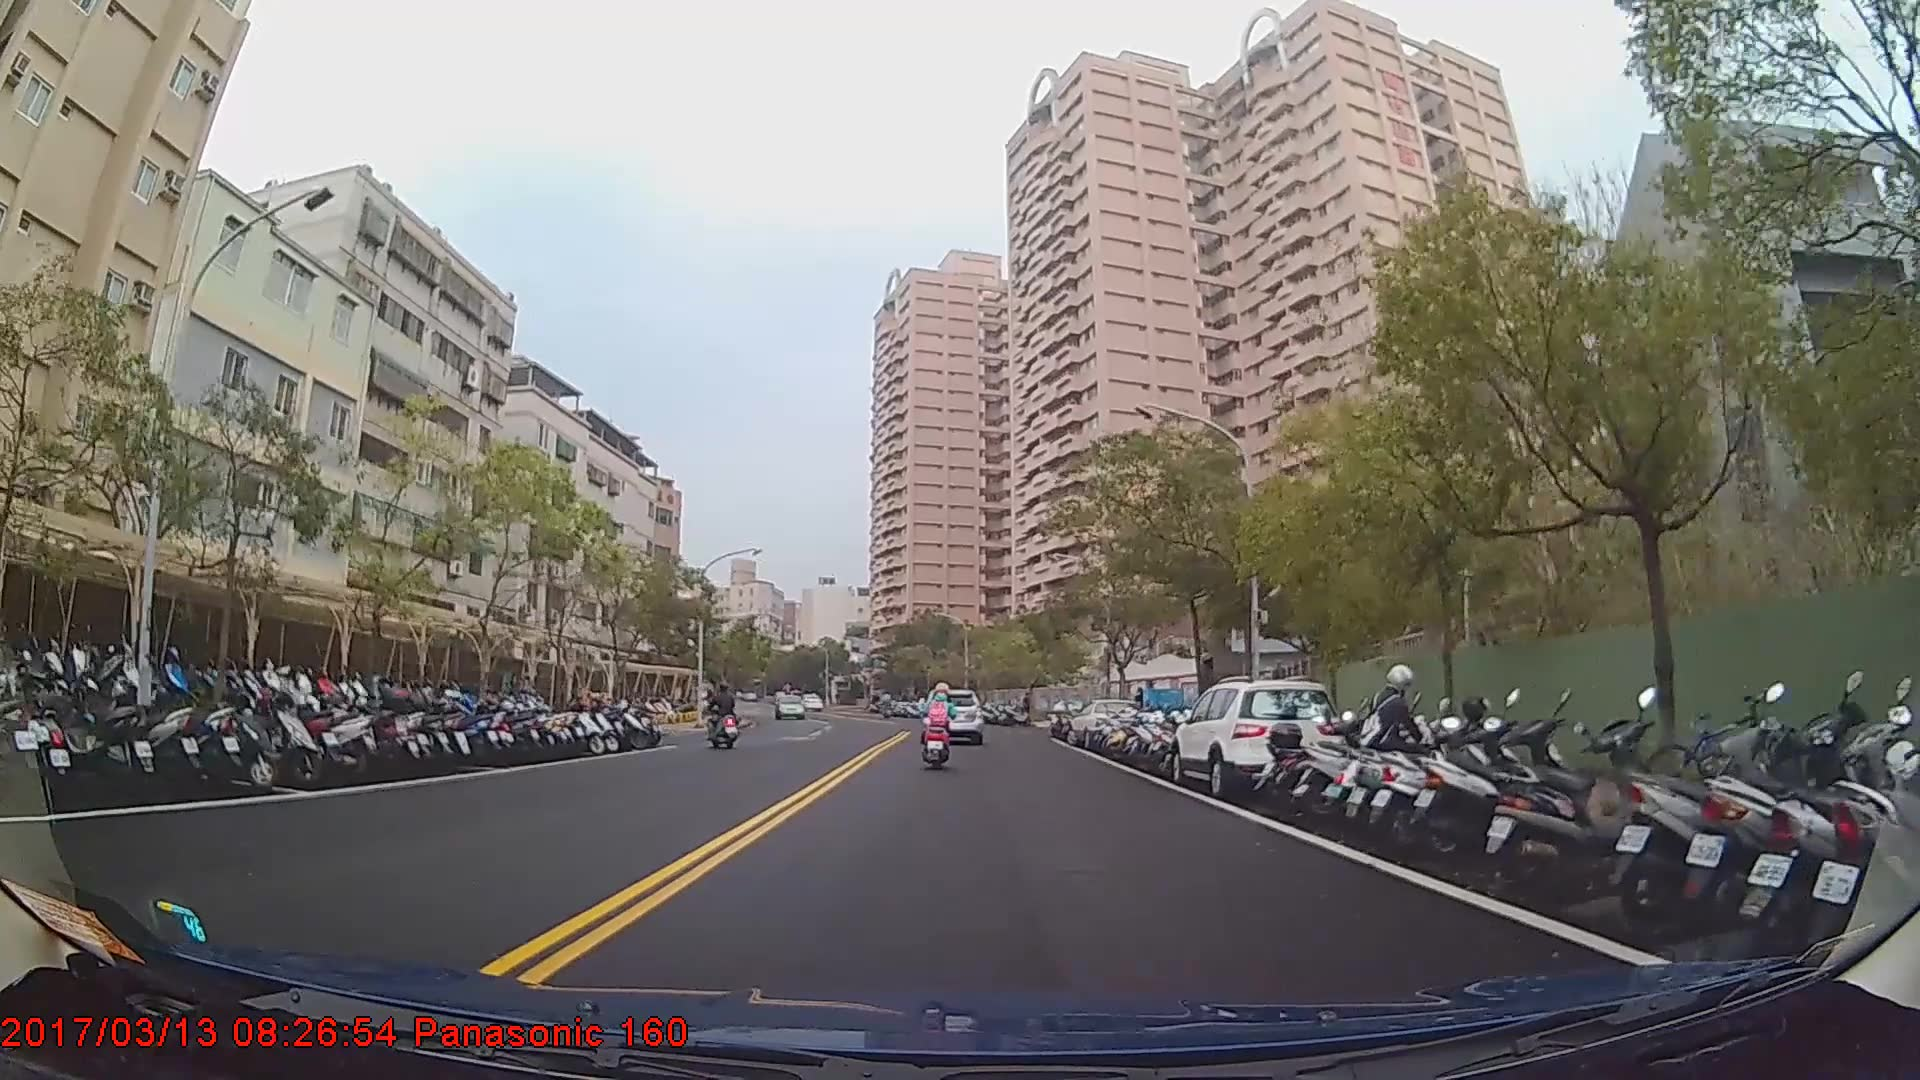rider: (919, 679, 957, 773), (707, 680, 736, 742)
vehicle: (1168, 677, 1341, 798), (1064, 696, 1146, 752), (922, 683, 981, 740), (771, 692, 805, 717)
